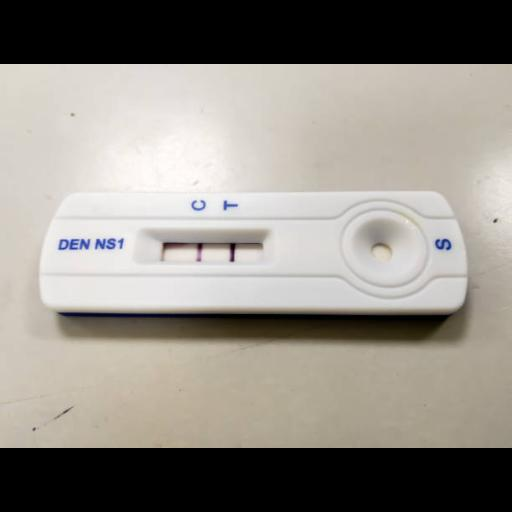Pos: (46, 192, 464, 308)
